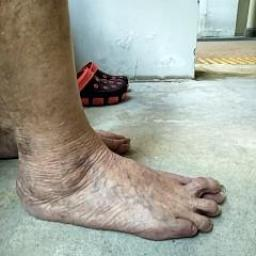Lateral View -Right Foot-: (8, 106, 250, 250)
